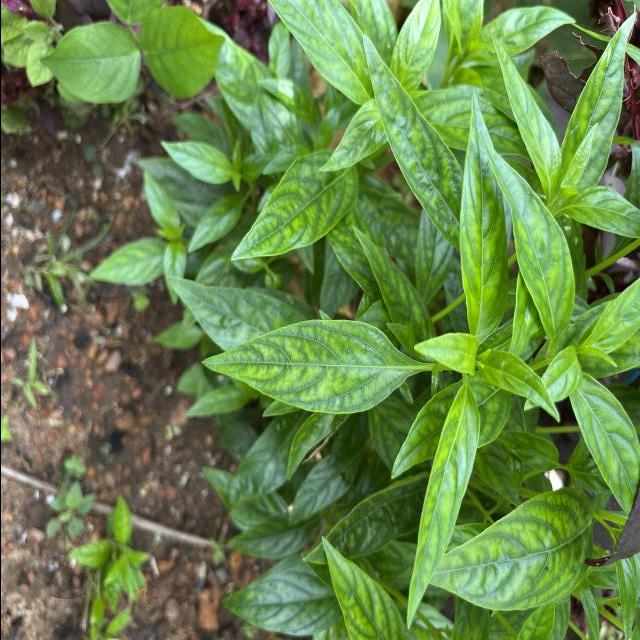Andrographis paniculata: (473, 121, 578, 342), (358, 28, 459, 249), (427, 484, 596, 614), (197, 316, 413, 416), (404, 377, 482, 632), (229, 150, 359, 264), (555, 5, 636, 187), (455, 85, 509, 336), (350, 223, 435, 356), (573, 374, 640, 513), (481, 348, 562, 426), (412, 328, 478, 377)
